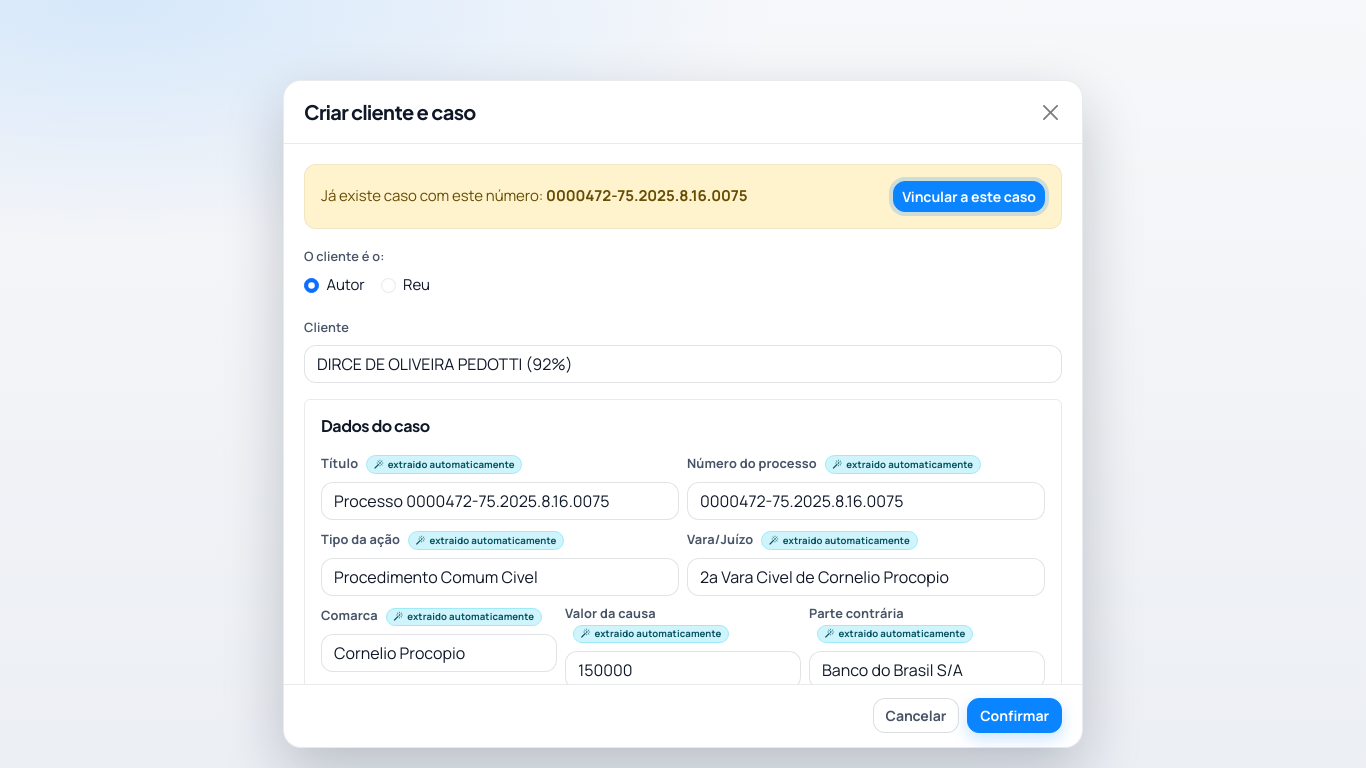
Test: ModalCriarClienteCaso › selecionar cliente existente esconde form de novo cliente
Step 1. Select "+ Criar novo cliente" in the dropdown labelled "Cliente" → (683, 364), box [304,346,1062,384]
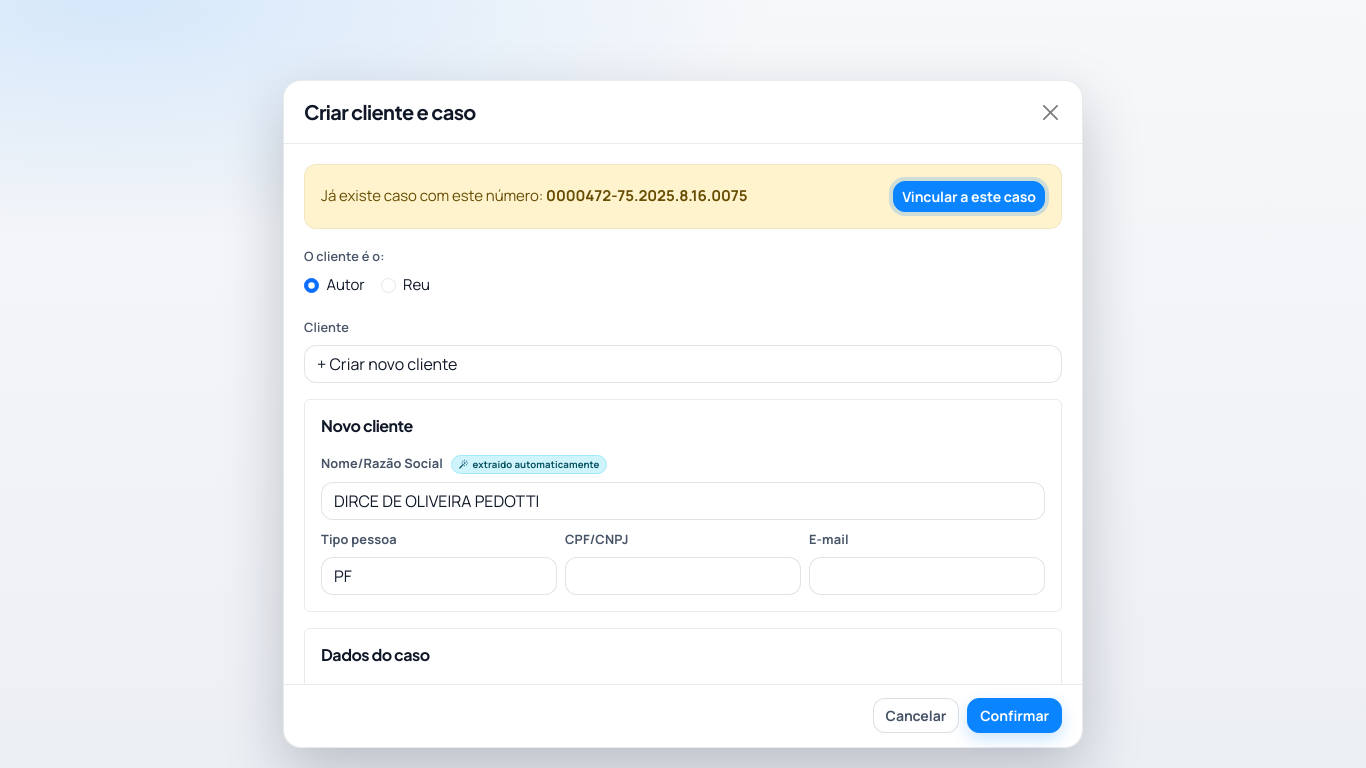
Result: the element with test id "novo-cliente-form" is shown at [304,400,1062,612]
Step 2. Select "DIRCE DE OLIVEIRA PEDOTTI (92%)" in the dropdown labelled "Cliente" → (683, 364), box [304,346,1062,384]
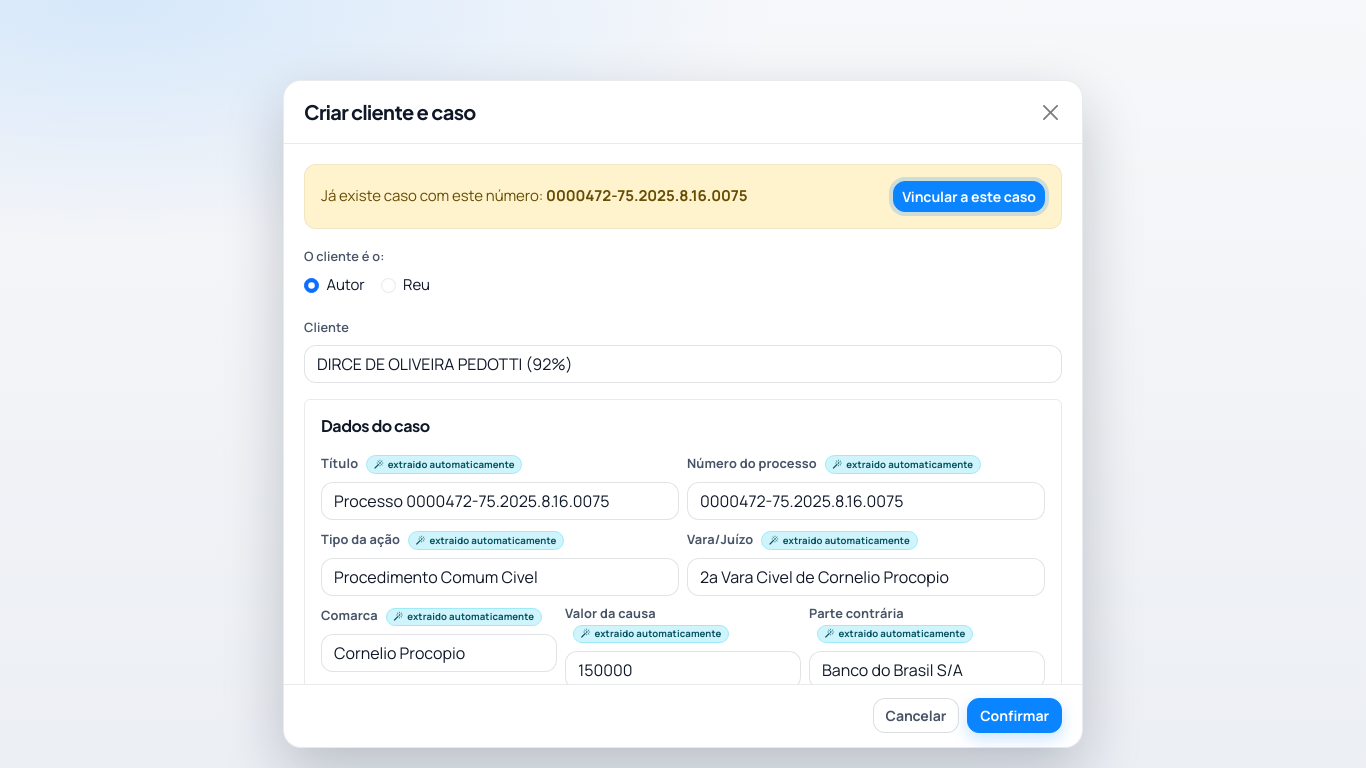
Result: the element with test id "novo-cliente-form" is gone
